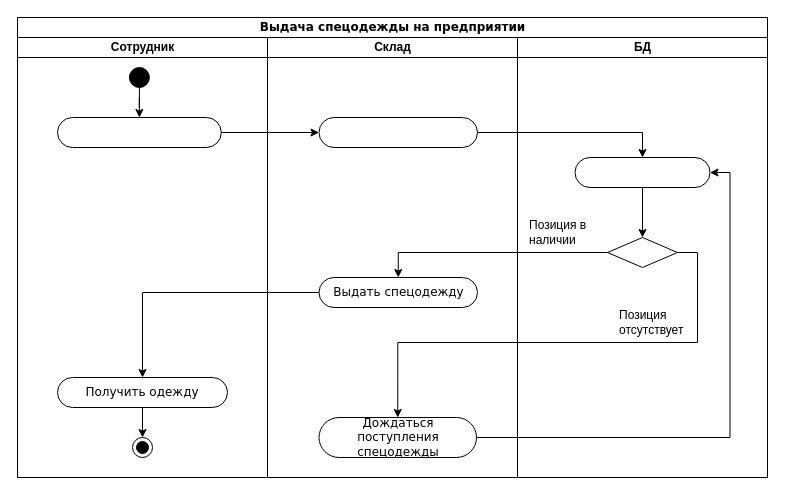
Image size: 785x495. Some labels were removed from this diagram. The shapes that lost their labels are listed below. From the top down, each one's centre as x and y in pixels, then its label:
At pixel 138 132: "Оформить заказ".
At pixel 398 132: "Принять заказ на спецодежду".
At pixel 642 172: "Проверить наличие спецодежды".
